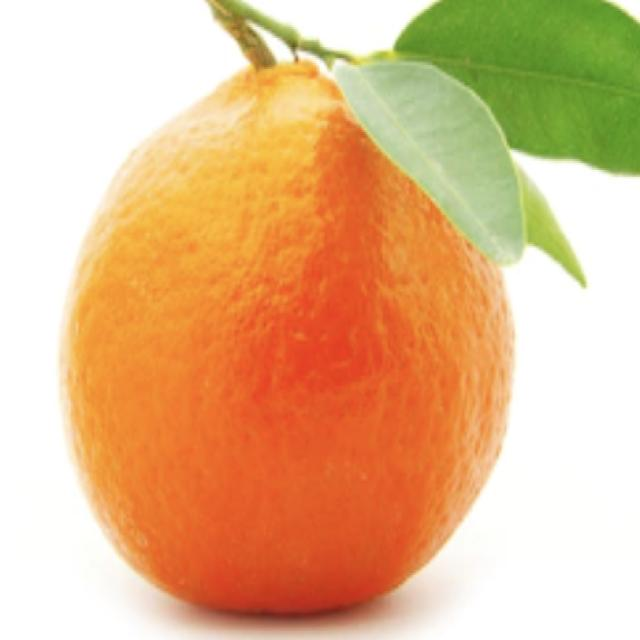orange: (62, 64, 512, 612)
